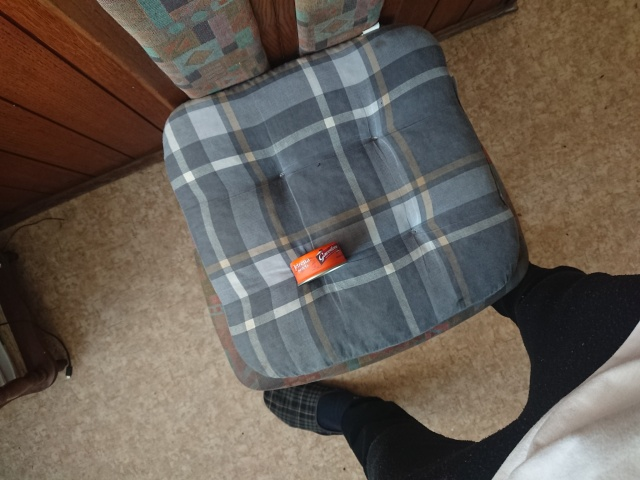Gavrilovic Pork Liver Pate 100g: (286, 239, 351, 288)
